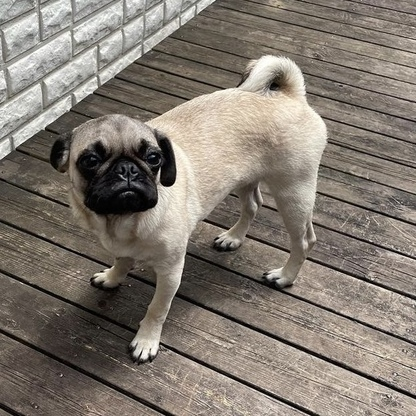Pug: (47, 51, 337, 368)
